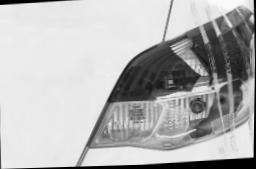Light: (107, 0, 255, 103)
